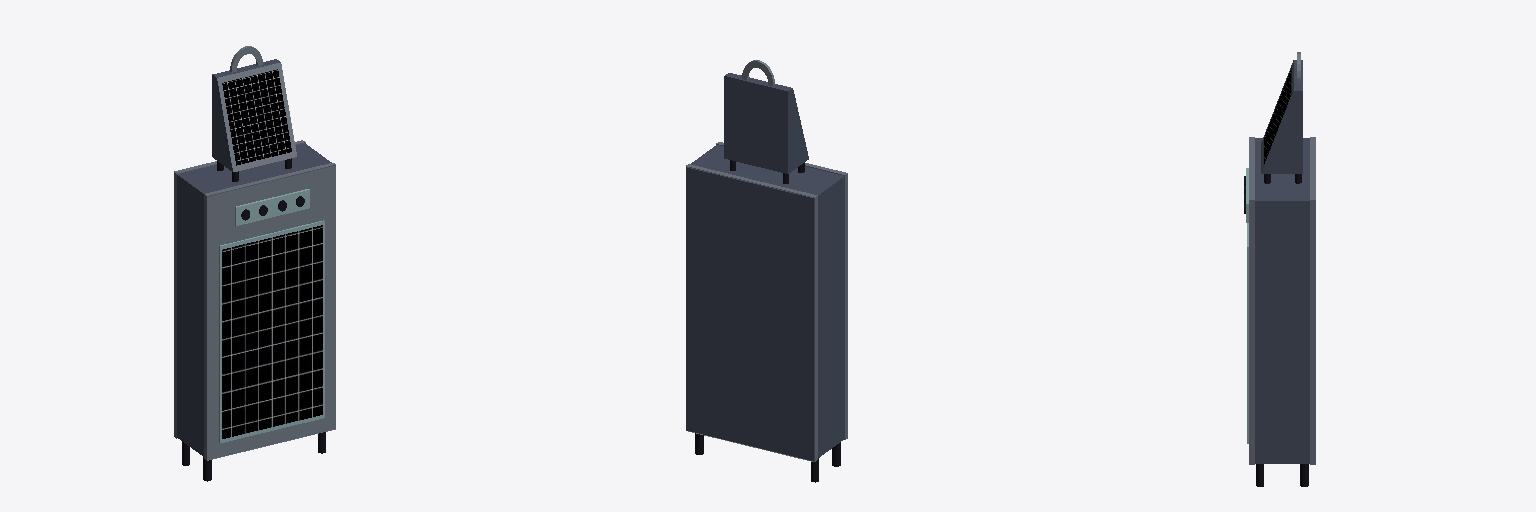
3 views of the same model, side by side, from view 1: azimuth 30°, elevation 25°; view 2: azimuth 150°, elevation 25°; view 3: azimuth 270°, elevation 25° (orthographic).
Parts seen in each view (by area): view 1: bocina:group3_pasted__pCube1; view 2: bocina:group3_pasted__pCube1; view 3: bocina:group3_pasted__pCube1.
Boxes of the visible parts, <box> form: bocina:group3_pasted__pCube1: <box>174,46,335,481</box>; bocina:group3_pasted__pCube1: <box>686,60,847,482</box>; bocina:group3_pasted__pCube1: <box>1244,52,1315,486</box>.
Size of the model in its own units: 0.5737 by 1.72 by 0.2766.
6 materials, 6 textured.